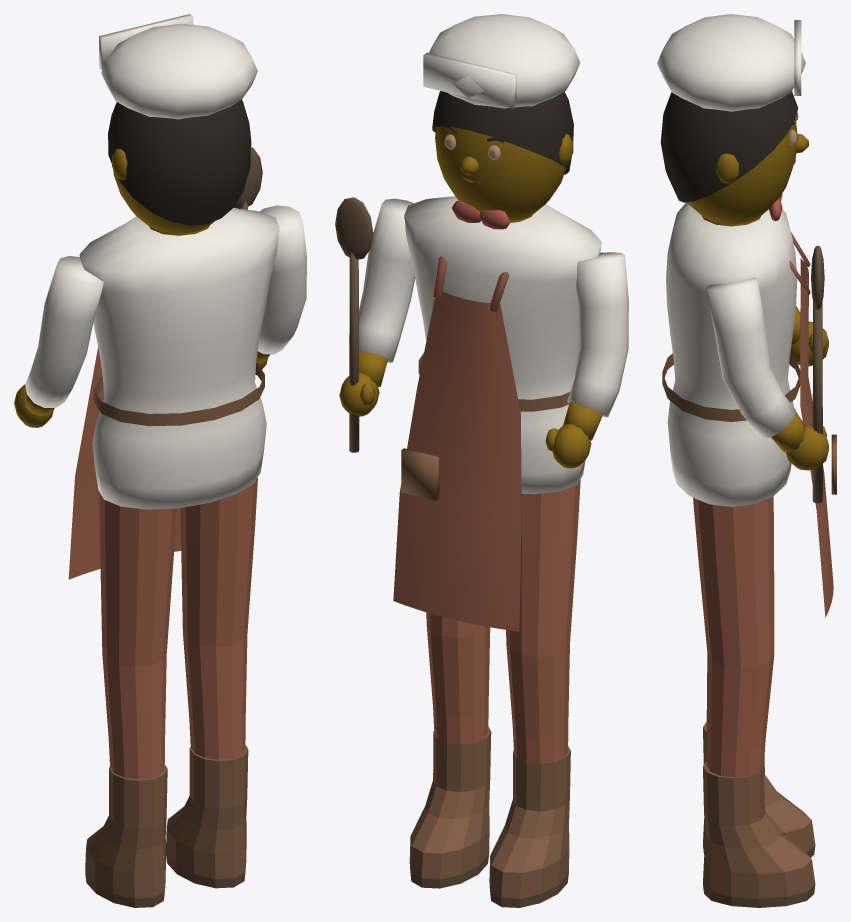
Rendered from SM_NPC_HORNO.glb.
3 views of the same model, side by side, from view 1: azimuth 30°, elevation 25°; view 2: azimuth 150°, elevation 25°; view 3: azimuth 270°, elevation 25° (orthographic).
Parts seen in each view (by area): view 1: SM_NPC_HORNO_BODY, SM_NPC_HORNO_LEG_L, SM_NPC_HORNO_LEG_R, SM_NPC_HORNO_HAIR, SM_NPC_HORNO_ARM_L, SM_NPC_HORNO_ARM_R, SM_NPC_HORNO_HEAD; view 2: SM_NPC_HORNO_BODY, SM_NPC_HORNO_LEG_L, SM_NPC_HORNO_HAIR, SM_NPC_HORNO_LEG_R, SM_NPC_HORNO_ARM_R, SM_NPC_HORNO_ARM_L, SM_NPC_HORNO_HEAD; view 3: SM_NPC_HORNO_BODY, SM_NPC_HORNO_LEG_R, SM_NPC_HORNO_HAIR, SM_NPC_HORNO_ARM_R, SM_NPC_HORNO_HEAD, SM_NPC_HORNO_LEG_L, SM_NPC_HORNO_ARM_L.
Boxes of the visible parts, left/top/right/bottom form: SM_NPC_HORNO_BODY: left=68, top=208, right=279, bottom=579; SM_NPC_HORNO_LEG_L: left=85, top=492, right=176, bottom=907; SM_NPC_HORNO_LEG_R: left=166, top=477, right=257, bottom=888; SM_NPC_HORNO_HAIR: left=99, top=14, right=257, bottom=225; SM_NPC_HORNO_ARM_L: left=14, top=256, right=103, bottom=427; SM_NPC_HORNO_ARM_R: left=234, top=147, right=306, bottom=369; SM_NPC_HORNO_HEAD: left=112, top=131, right=250, bottom=233; SM_NPC_HORNO_BODY: left=393, top=196, right=601, bottom=631; SM_NPC_HORNO_LEG_L: left=489, top=479, right=580, bottom=907; SM_NPC_HORNO_HAIR: left=423, top=14, right=580, bottom=174; SM_NPC_HORNO_LEG_R: left=409, top=612, right=491, bottom=888; SM_NPC_HORNO_ARM_R: left=335, top=197, right=415, bottom=452; SM_NPC_HORNO_ARM_L: left=545, top=252, right=628, bottom=468; SM_NPC_HORNO_HEAD: left=435, top=126, right=573, bottom=220; SM_NPC_HORNO_BODY: left=662, top=194, right=836, bottom=617; SM_NPC_HORNO_LEG_R: left=693, top=496, right=815, bottom=907; SM_NPC_HORNO_HAIR: left=657, top=14, right=805, bottom=202; SM_NPC_HORNO_ARM_R: left=705, top=245, right=828, bottom=503; SM_NPC_HORNO_HEAD: left=687, top=119, right=808, bottom=224; SM_NPC_HORNO_LEG_L: left=703, top=496, right=815, bottom=857; SM_NPC_HORNO_ARM_L: left=790, top=306, right=828, bottom=365.
Size of the model in its own units: 0.6008 by 1.86 by 0.3582.
